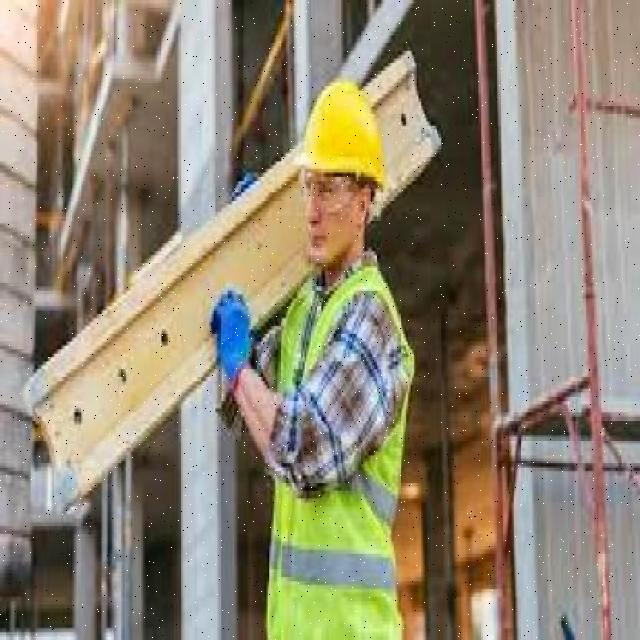Hard_hat: (297, 86, 389, 187)
Vest: (271, 286, 397, 640)
